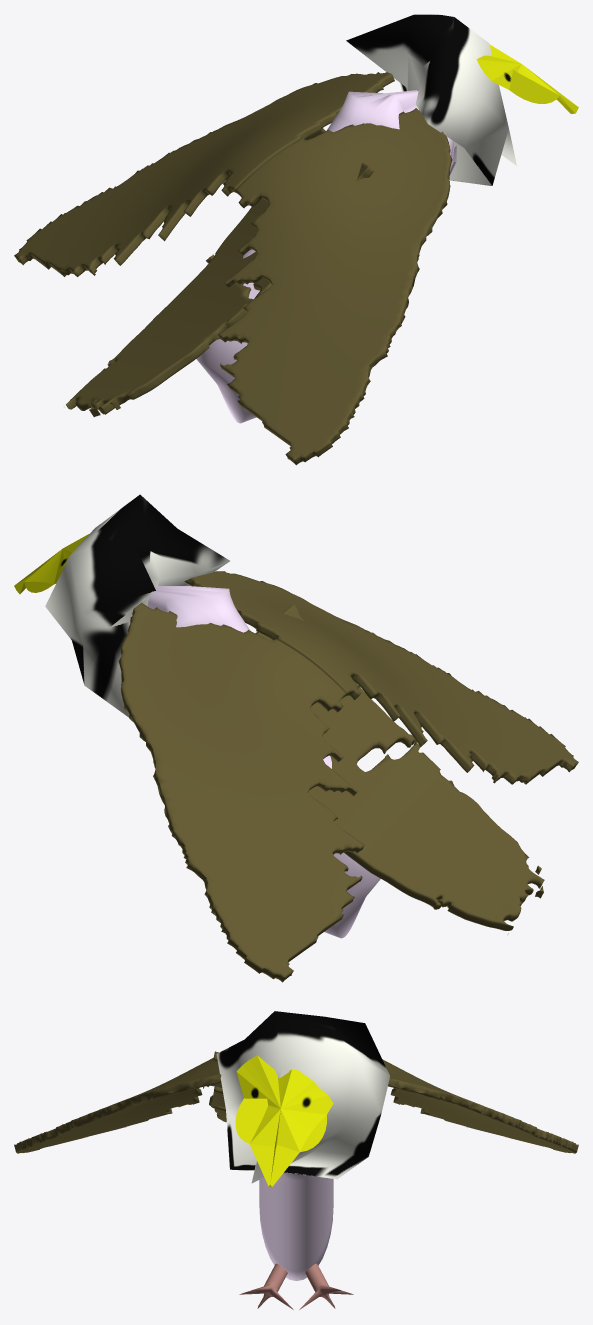
The model's file is BIRD.glb.
3 renders of one model, top to bottom at view 1: azimuth 30°, elevation 25°; view 2: azimuth 150°, elevation 25°; view 3: azimuth 270°, elevation 25°, orthographic. The views are drawn at different scales.
Parts seen in each view (by area): view 1: PolyMesh3D1_7, PolyMesh3D1_4, PolyMesh3D1_oPP, PolyMesh3D1_3, PM3D_Cylinder3D1_SeamsColor, Cone.033; view 2: PolyMesh3D1_4, PolyMesh3D1_3, PolyMesh3D1_7, PolyMesh3D1_oPP, PM3D_Cylinder3D1_SeamsColor, Cone.033; view 3: PolyMesh3D1_oPP, Cone.033, PM3D_Cylinder3D1_SeamsColor, PolyMesh3D1_7, PolyMesh3D1_4, PM3D_Cylinder3D1_2, PolyMesh3D1_3.
Part boxes in pixels (left/top/right/bottom): PolyMesh3D1_7: left=218, top=108, right=452, bottom=465; PolyMesh3D1_4: left=14, top=72, right=394, bottom=276; PolyMesh3D1_oPP: left=346, top=14, right=516, bottom=185; PolyMesh3D1_3: left=66, top=128, right=373, bottom=416; PM3D_Cylinder3D1_SeamsColor: left=196, top=90, right=456, bottom=423; Cone.033: left=477, top=44, right=578, bottom=113; PolyMesh3D1_4: left=118, top=602, right=364, bottom=982; PolyMesh3D1_3: left=255, top=603, right=544, bottom=933; PolyMesh3D1_7: left=184, top=571, right=578, bottom=784; PolyMesh3D1_oPP: left=45, top=494, right=229, bottom=717; PM3D_Cylinder3D1_SeamsColor: left=147, top=585, right=380, bottom=938; Cone.033: left=14, top=534, right=88, bottom=594; PolyMesh3D1_oPP: left=216, top=1011, right=389, bottom=1183; Cone.033: left=235, top=1055, right=333, bottom=1186; PM3D_Cylinder3D1_SeamsColor: left=259, top=1172, right=333, bottom=1280; PolyMesh3D1_7: left=14, top=1058, right=221, bottom=1153; PolyMesh3D1_4: left=382, top=1059, right=578, bottom=1153; PM3D_Cylinder3D1_2: left=239, top=1263, right=353, bottom=1309; PolyMesh3D1_3: left=203, top=1051, right=226, bottom=1122.
Size of the model in its own units: 1.28 by 0.9278 by 1.3.
Materials: 8 (2 with a texture image).
